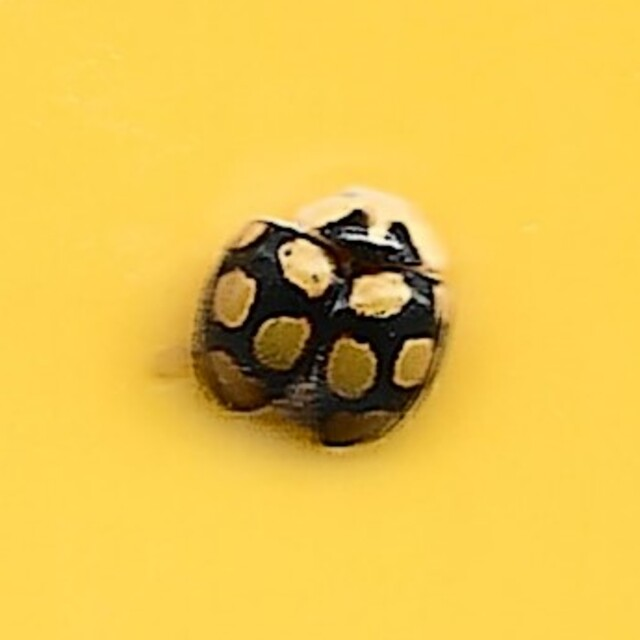Coleoptera: (186, 181, 454, 459)
